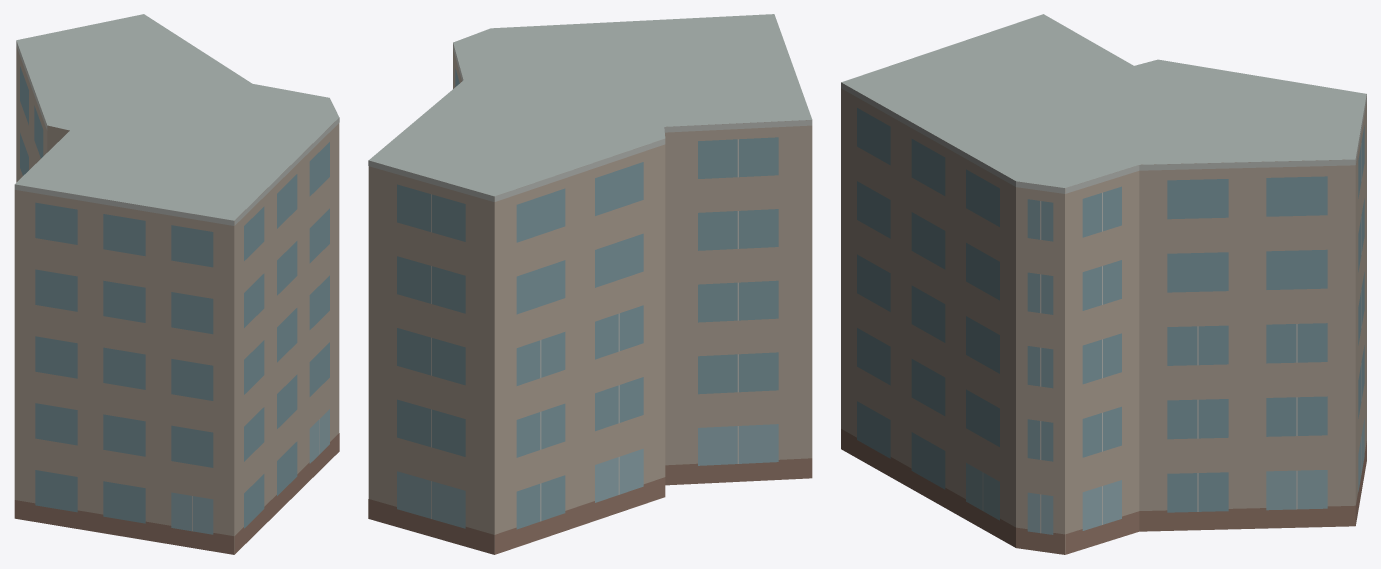
File: survey-upis-32937863.glb
3 renders of one model, left to right at view 1: azimuth 30°, elevation 25°; view 2: azimuth 150°, elevation 25°; view 3: azimuth 270°, elevation 25°, orthographic. The views are drawn at different scales.
Visible parts, largest first — view 1: survey-upis-32937863.tmp; view 2: survey-upis-32937863.tmp; view 3: survey-upis-32937863.tmp.
Part boxes in pixels (left/top/right/bottom): survey-upis-32937863.tmp: left=14, top=14, right=339, bottom=554; survey-upis-32937863.tmp: left=368, top=14, right=812, bottom=554; survey-upis-32937863.tmp: left=841, top=14, right=1366, bottom=554.
Bounding box in the file's own units: 15.49 × 15.2 × 19.76.
